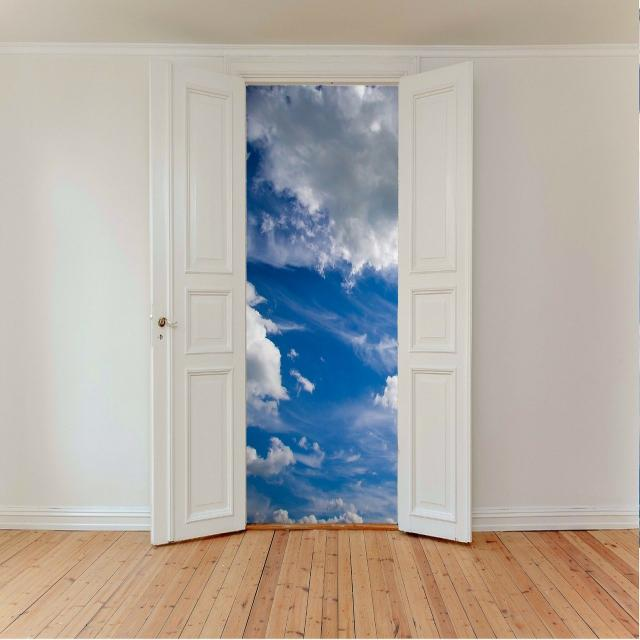open: (160, 67, 488, 553)
